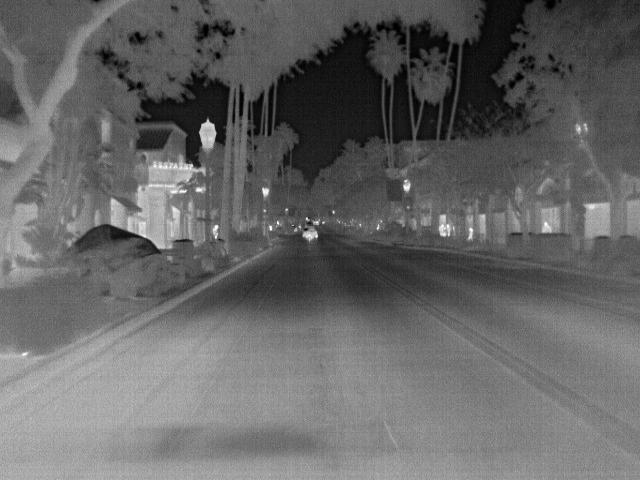car: (300, 226, 319, 241)
person: (437, 222, 450, 238), (210, 222, 222, 239), (540, 222, 555, 234)
